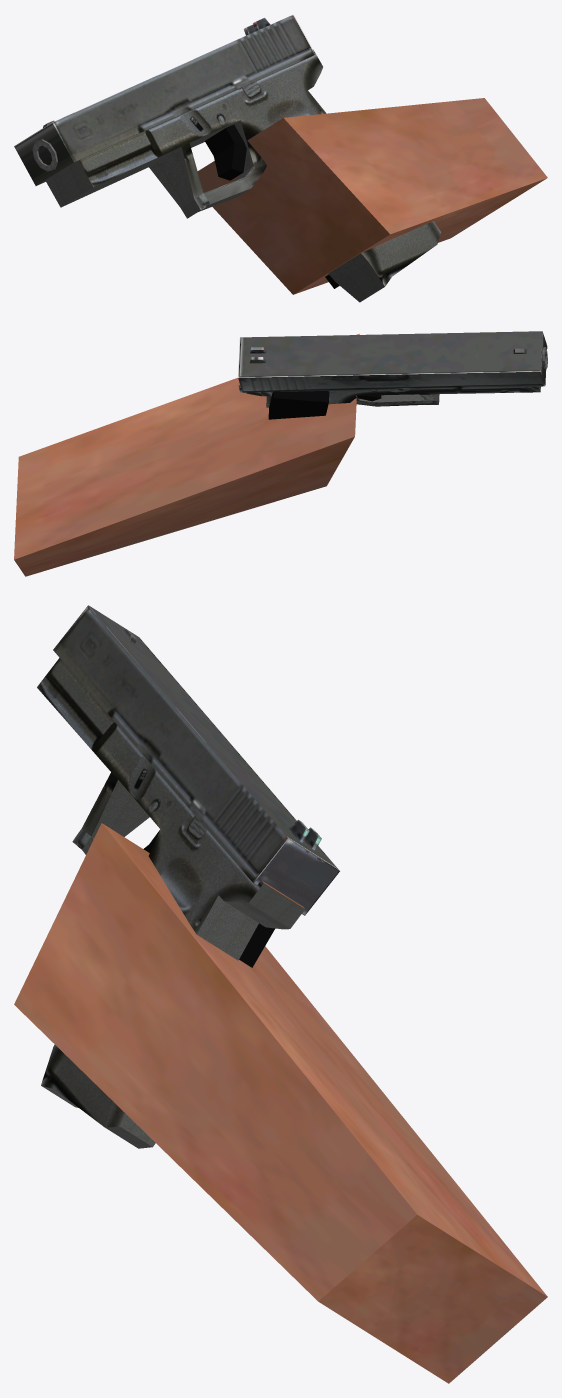
Rendered from pistol_000021.obj.
3 views of the same model, one above another, from view 1: azimuth 30°, elevation 25°; view 2: azimuth 150°, elevation 25°; view 3: azimuth 270°, elevation 25° (orthographic). The views are drawn at different scales.
Visible parts, largest first — view 1: Cube, Cube.001, Cube.003; view 2: Cube, Cube.001, Cube.002; view 3: Cube, Cube.001.
Part boxes in pixels (x1,y1,x2,y2): Cube: [32, 49, 547, 302]; Cube.001: [14, 14, 315, 185]; Cube.003: [205, 124, 246, 180]; Cube: [14, 334, 547, 576]; Cube.001: [238, 331, 547, 392]; Cube.002: [268, 391, 329, 419]; Cube: [14, 658, 547, 1383]; Cube.001: [53, 605, 339, 915].
Size of the model in its own units: 1.69 by 0.9423 by 1.02.
